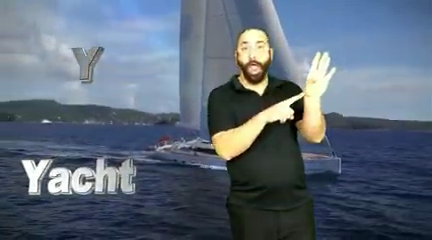Y: (269, 50, 339, 126)
